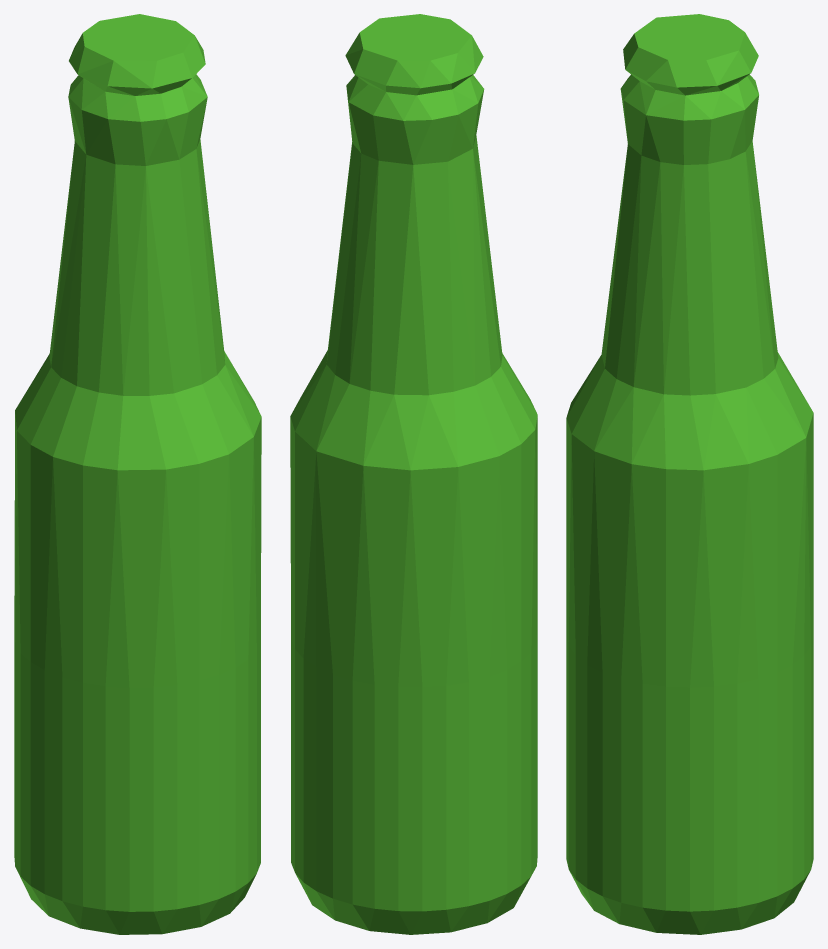
Rendered from bottle.glb.
3 renders of one model, left to right at view 1: azimuth 30°, elevation 25°; view 2: azimuth 150°, elevation 25°; view 3: azimuth 270°, elevation 25°, orthographic.
Parts seen in each view (by area): view 1: Cylinder; view 2: Cylinder; view 3: Cylinder.
Part boxes in pixels (x1,y1,x2,y2): Cylinder: (14, 14, 261, 934); Cylinder: (290, 14, 537, 934); Cylinder: (566, 14, 813, 934).
Size of the model in its own units: 1.26 by 4.81 by 1.26.
1 material, 1 textured.
